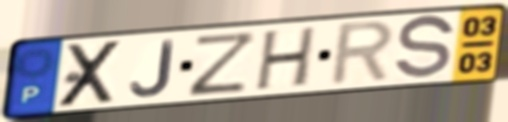H: (252, 24, 320, 94)
J: (128, 37, 177, 99)
R: (325, 17, 399, 89)
S: (391, 12, 458, 84)
X: (54, 38, 127, 111)
Z: (186, 29, 261, 99)
